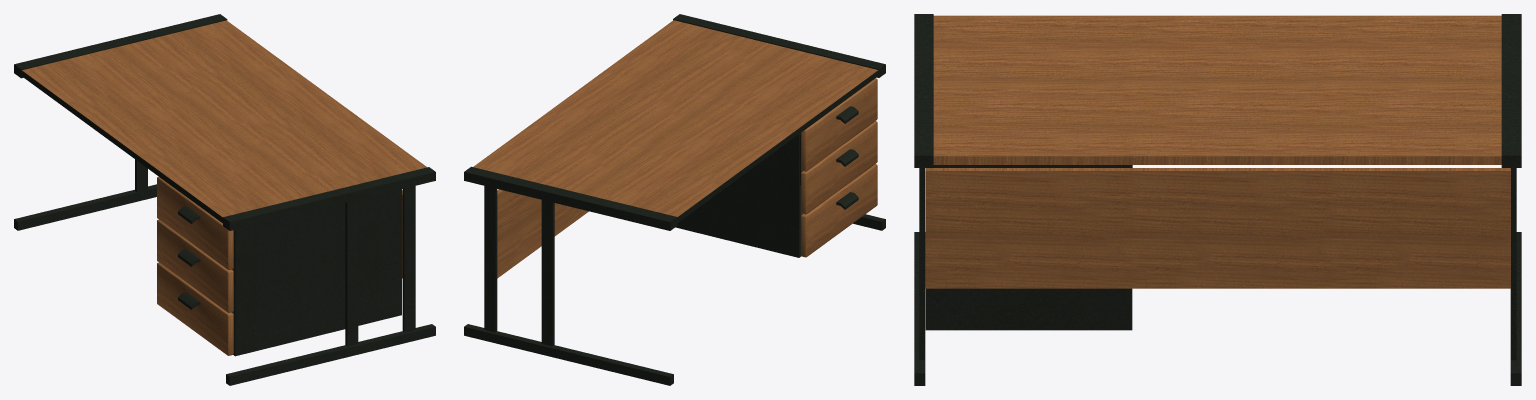
File: OfficeDesk_02.DAE
3 renders of one model, left to right at view 1: azimuth 30°, elevation 25°; view 2: azimuth 150°, elevation 25°; view 3: azimuth 270°, elevation 25°, orthographic. The views are drawn at different scales.
Visible parts, largest first — view 1: OfficeDeskTwo300; view 2: OfficeDeskTwo300; view 3: OfficeDeskTwo300.
Part boxes in pixels (bbox=[...]): OfficeDeskTwo300: bbox=[14, 14, 435, 385]; OfficeDeskTwo300: bbox=[464, 14, 885, 385]; OfficeDeskTwo300: bbox=[914, 14, 1521, 385].
Size of what is drawn, in the model's own units: 129 by 229 by 95.73.
